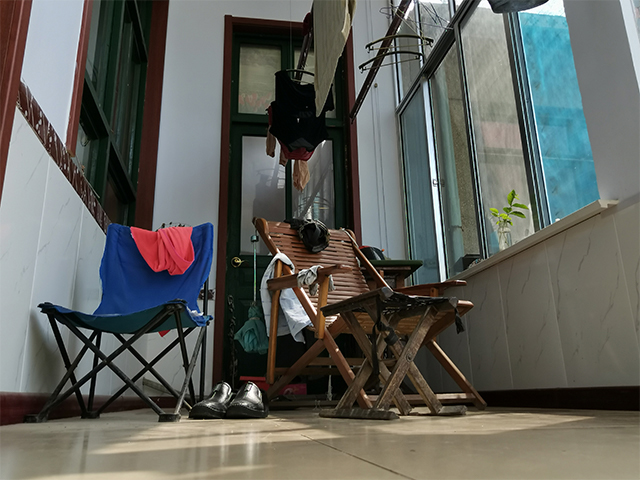stool: (248, 215, 492, 413), (35, 220, 215, 423), (316, 285, 474, 421)
